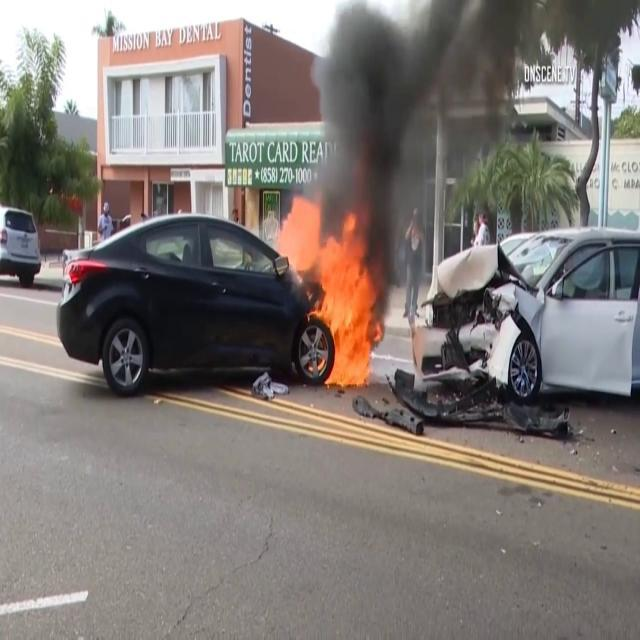Fire: (281, 195, 384, 390)
Smoke: (306, 0, 500, 256)
